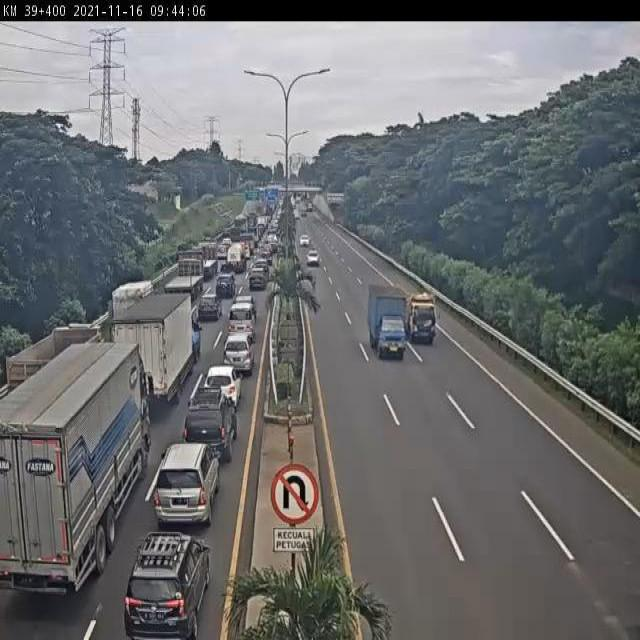car: (118, 521, 220, 640), (153, 433, 230, 527), (182, 387, 243, 460), (203, 359, 254, 416), (217, 326, 265, 371), (222, 300, 259, 335), (194, 285, 226, 320), (245, 265, 272, 299), (294, 232, 321, 255), (218, 268, 239, 297), (306, 249, 326, 272)
small truck: (405, 293, 439, 351)
truck-l-: (0, 337, 149, 604), (162, 249, 204, 300), (195, 237, 220, 280)
truck-m-: (4, 324, 110, 420), (112, 297, 201, 411), (366, 286, 411, 366), (113, 280, 156, 347)
